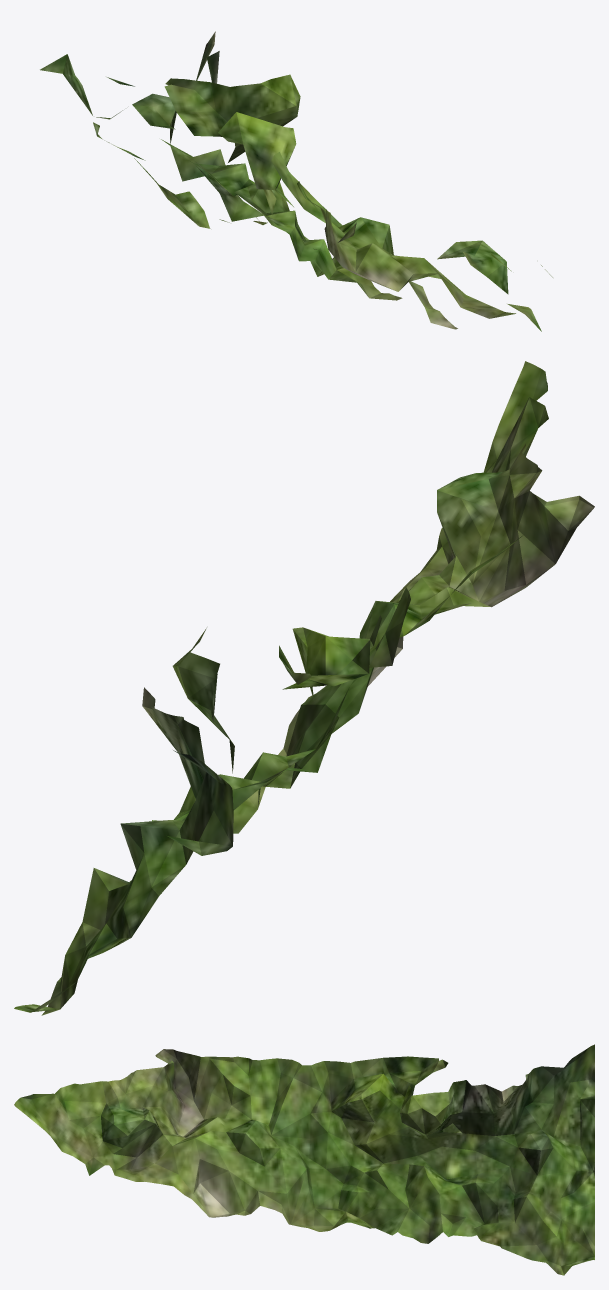
3 views of the same model, one above another, from view 1: azimuth 30°, elevation 25°; view 2: azimuth 150°, elevation 25°; view 3: azimuth 270°, elevation 25° (orthographic). The views are drawn at different scales.
Bounding box in the file's own units: 6.27 × 8.2 × 25.28.
Materials: 1 (1 with a texture image).
